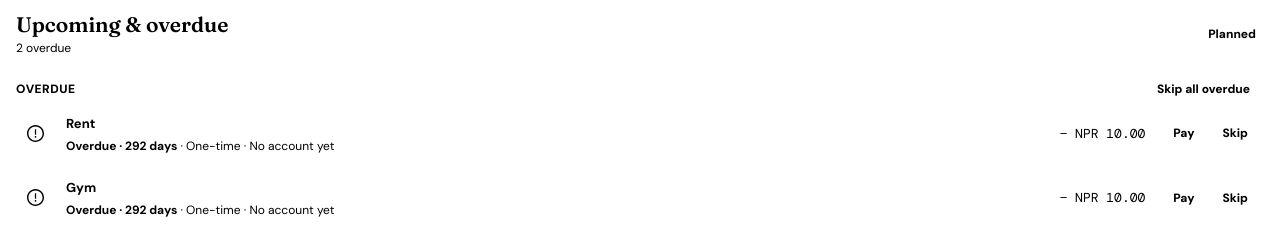
Test case: planned skip queue › Undo restores the row and sends nothing
Click the button with aria-label "Skip Rent" at (1235, 133), box [1214, 115, 1256, 151]
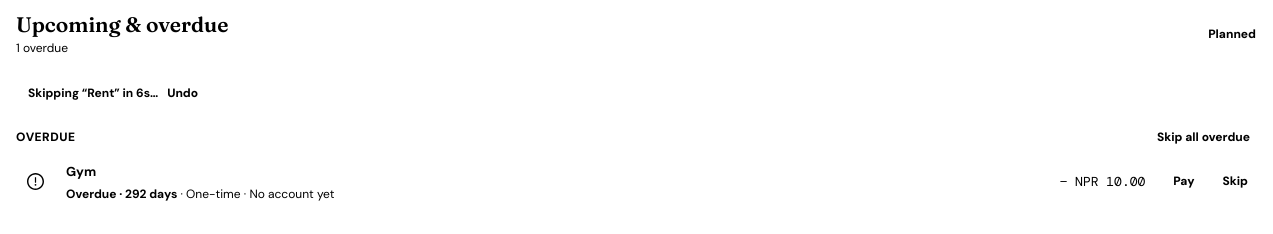
Click the button "Undo" at (183, 93), box [161, 81, 204, 105]
Wait 7000 ms
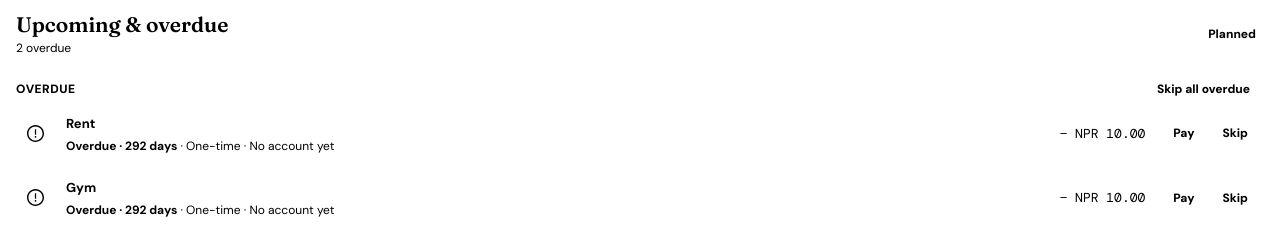
Expected: the button with aria-label "Skip Rent" is shown, [1214, 115, 1256, 151]
